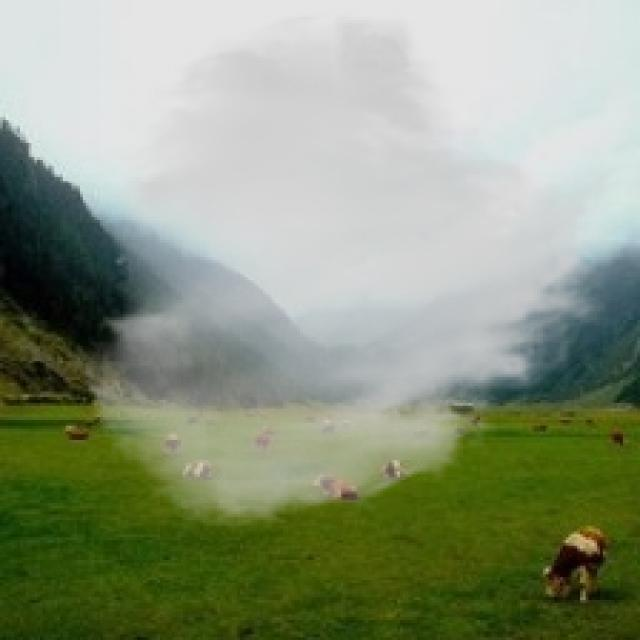Smoke: (80, 9, 620, 532)
